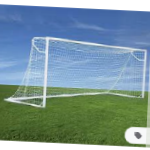goals: (4, 33, 150, 113)
